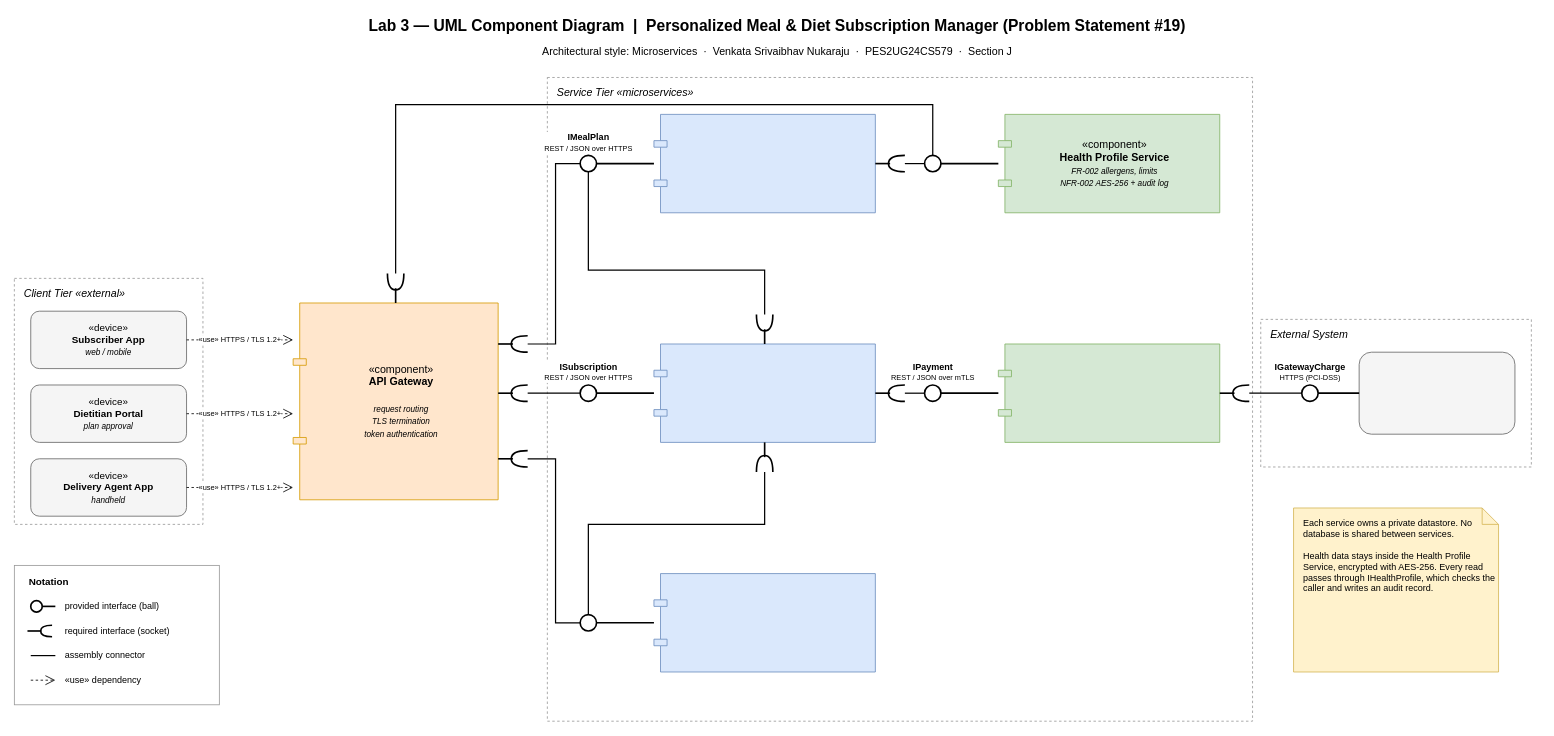
The diagram is 1554 pixels wide and 736 high, and some of its shapes have lost their labels. The shapes that lost their labels are listed below. From the top down, each one's centre as x and y in pixels, then its label:
At point 764,163: "«component» Meal Plan Service FR-001 plan generation FR-003 dietitian approval".
At point 932,163: "IHealthProfile REST / JSON over mTLS".
At point 764,392: "«component» Order Manager subscription orders FR-004 12 h change cut-off".
At point 1109,392: "«component» Payment Service billing, skip credits holds gateway tokens only".
At point 1436,392: "«external system» Payment Gateway card authorisation".
At point 588,622: "IDelivery REST / JSON over HTTPS".
At point 764,622: "«component» Delivery Tracking FR-005 fulfilment outcome dispatch manifest".
